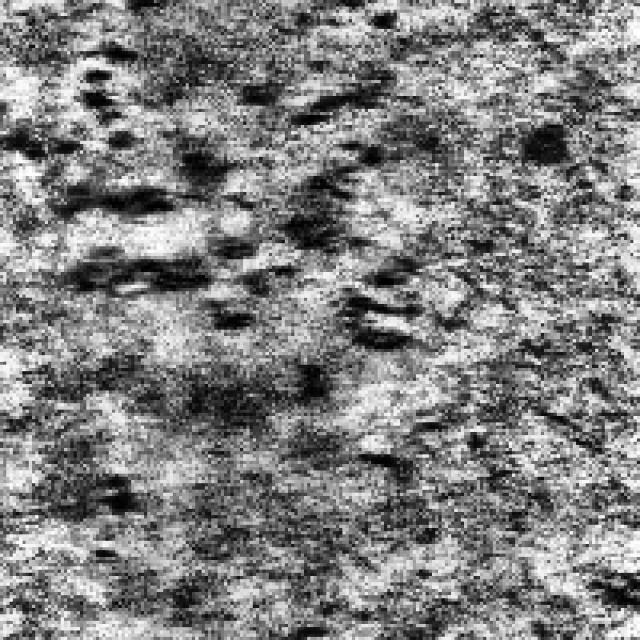Crazing: (26, 4, 294, 326), (236, 0, 422, 358)
